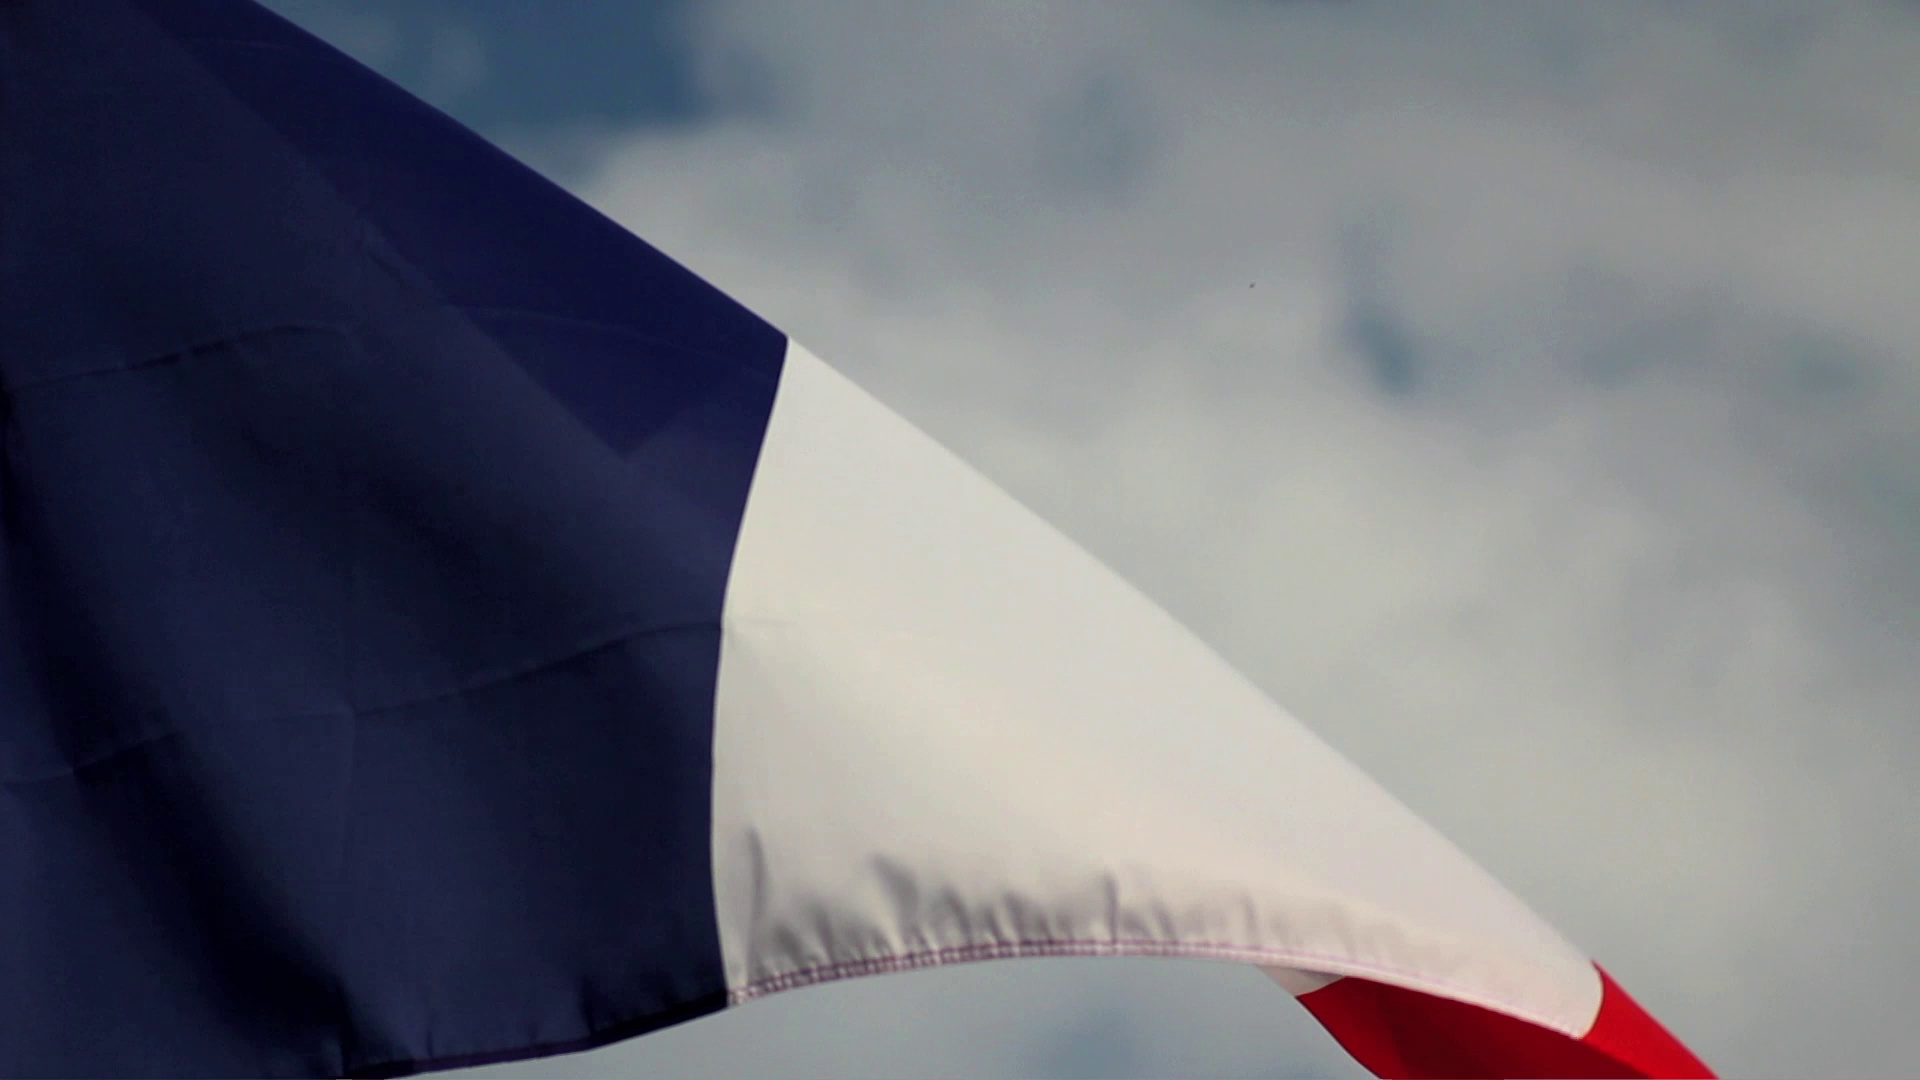French Flag: (1, 1, 1725, 1073)
